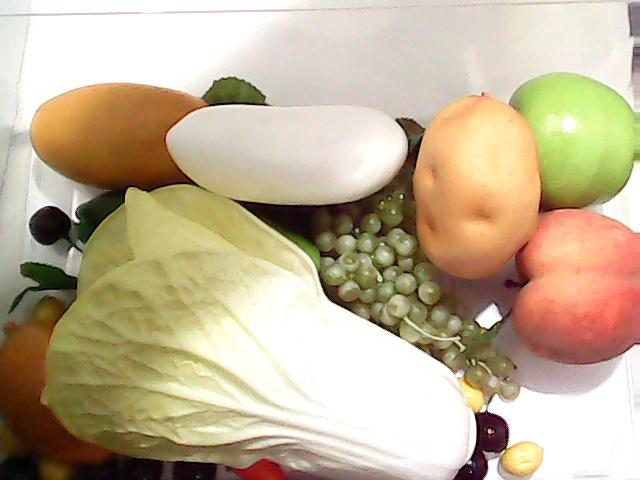apple: (506, 70, 636, 206)
carrot: (222, 447, 289, 480)
grape: (308, 190, 520, 402)
lemon: (0, 319, 116, 465)
mango: (25, 78, 265, 194)
napa cabbage: (31, 191, 485, 480)
peach: (504, 207, 640, 368)
pepper: (70, 183, 324, 283)
potato: (410, 88, 542, 281)
radish: (164, 98, 406, 206)
